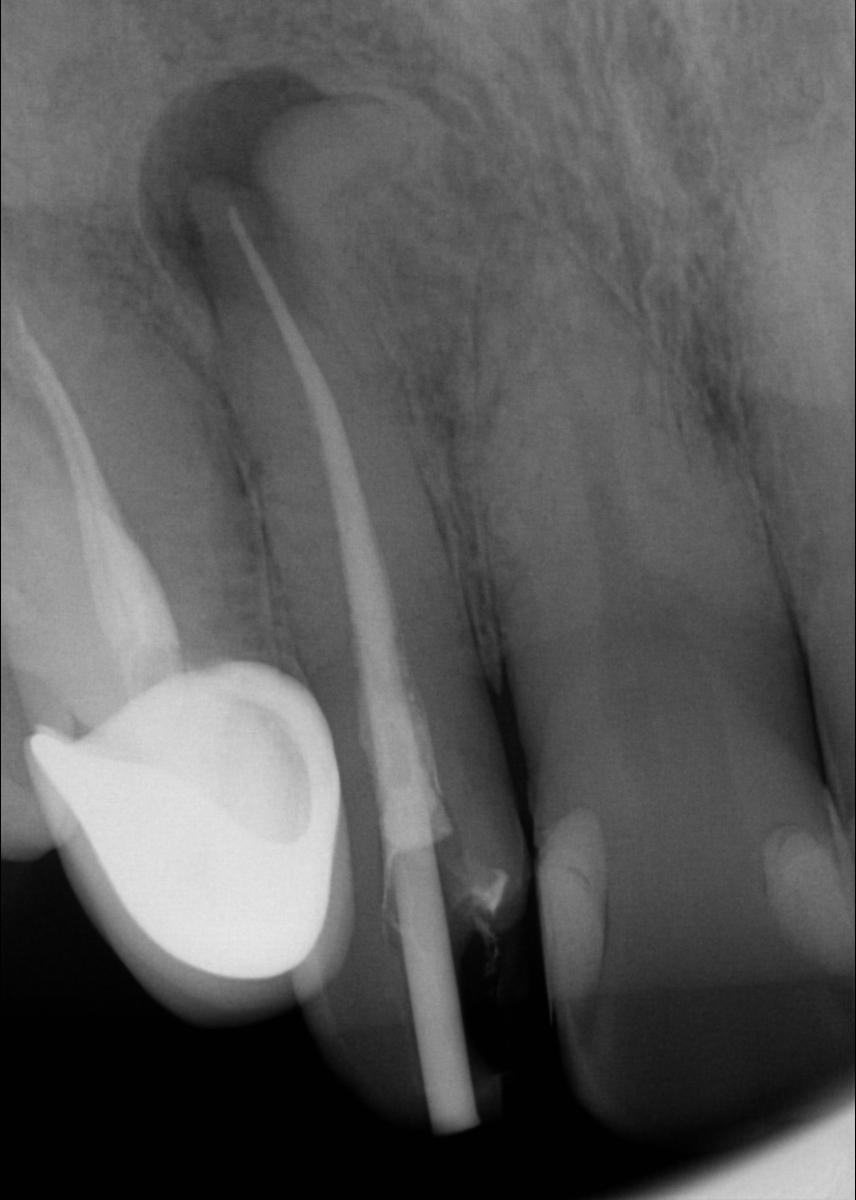Furcation Involvement: (138, 66, 326, 312)
